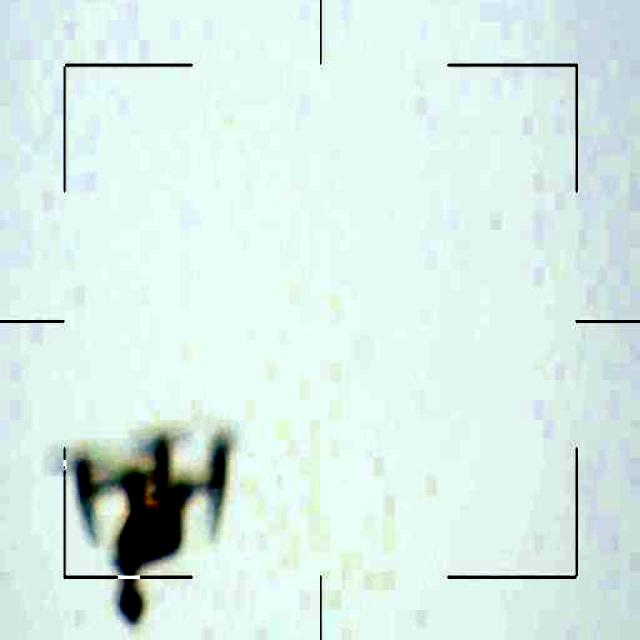bird: (41, 416, 236, 616)
